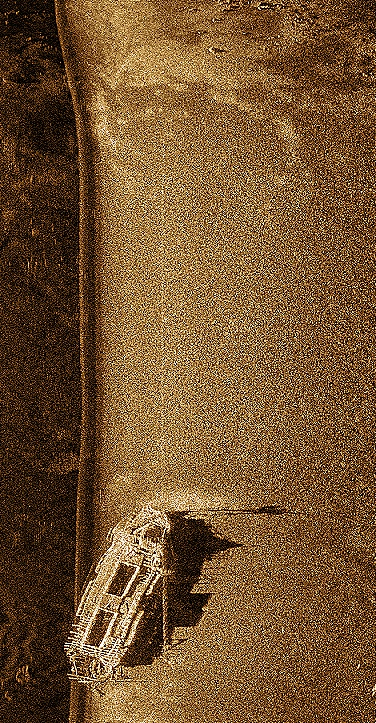ship: (61, 504, 175, 688)
